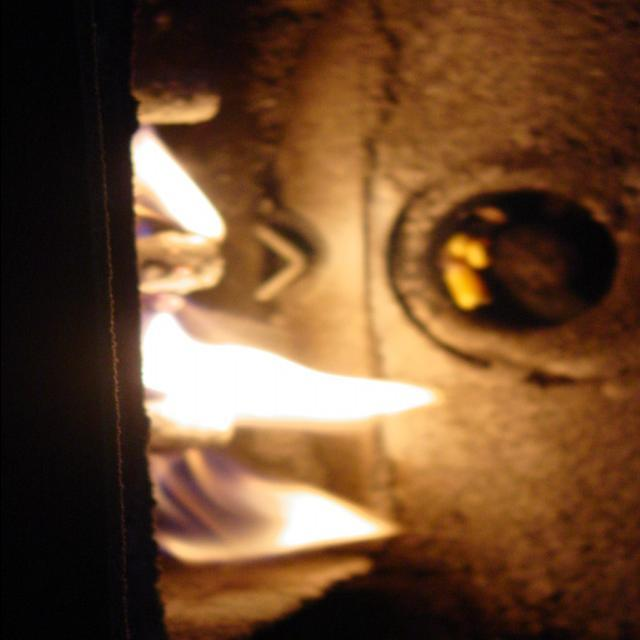Fire: (136, 74, 442, 638)
